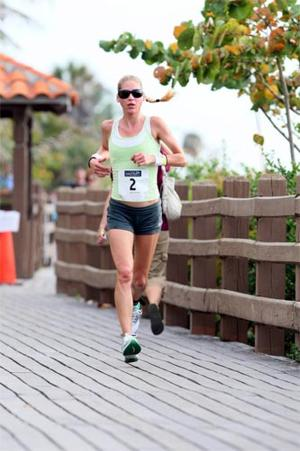person: (89, 74, 187, 363)
